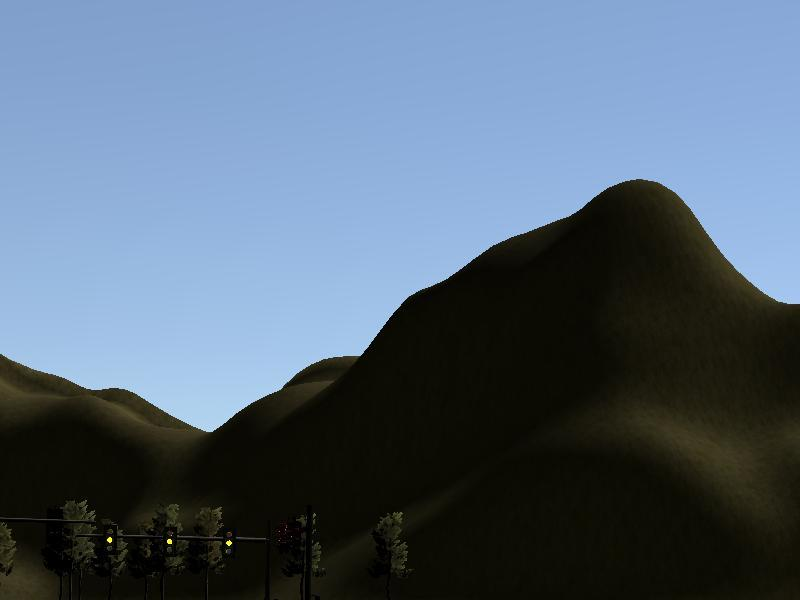Yellow: (161, 527, 177, 558), (222, 526, 236, 560), (102, 525, 117, 556)
